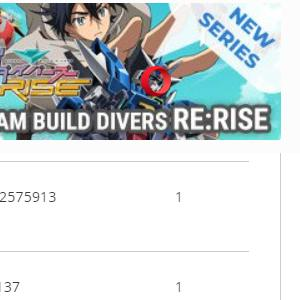opera: (141, 66, 171, 96)
